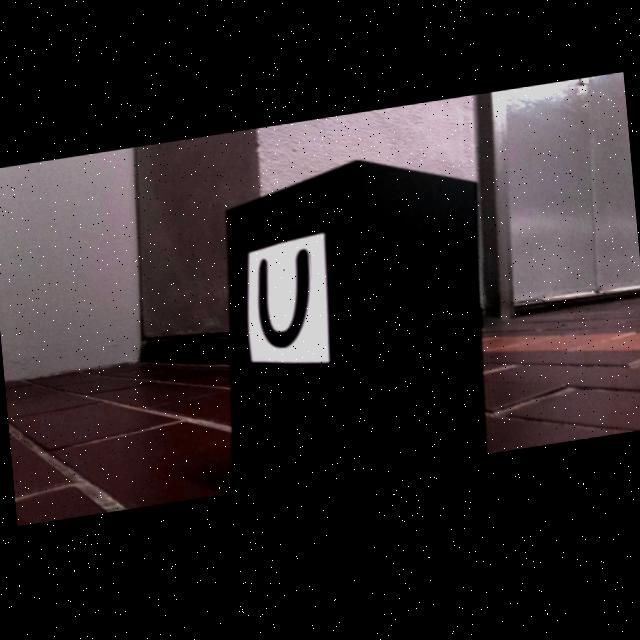U: (258, 253, 310, 351)
